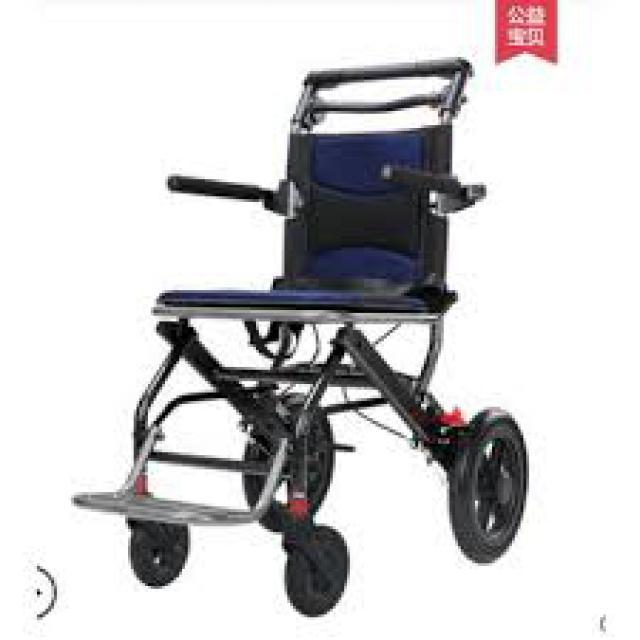wheelchair: (66, 36, 540, 632)
